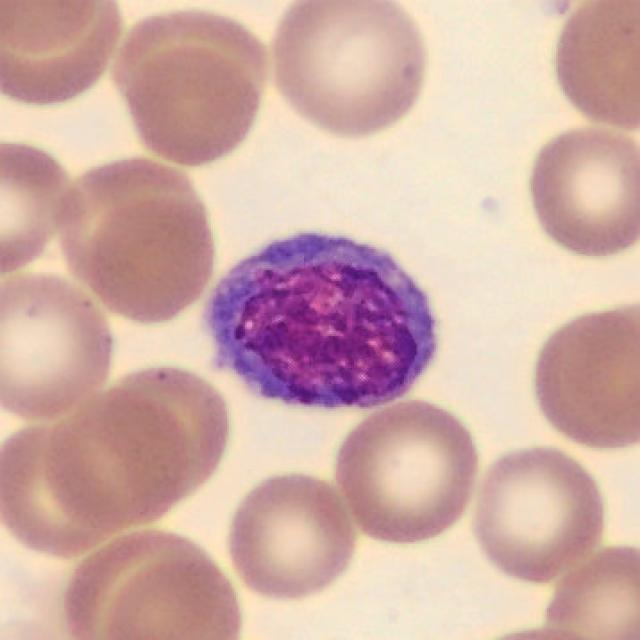Linfocito atipico: (211, 235, 433, 405)
